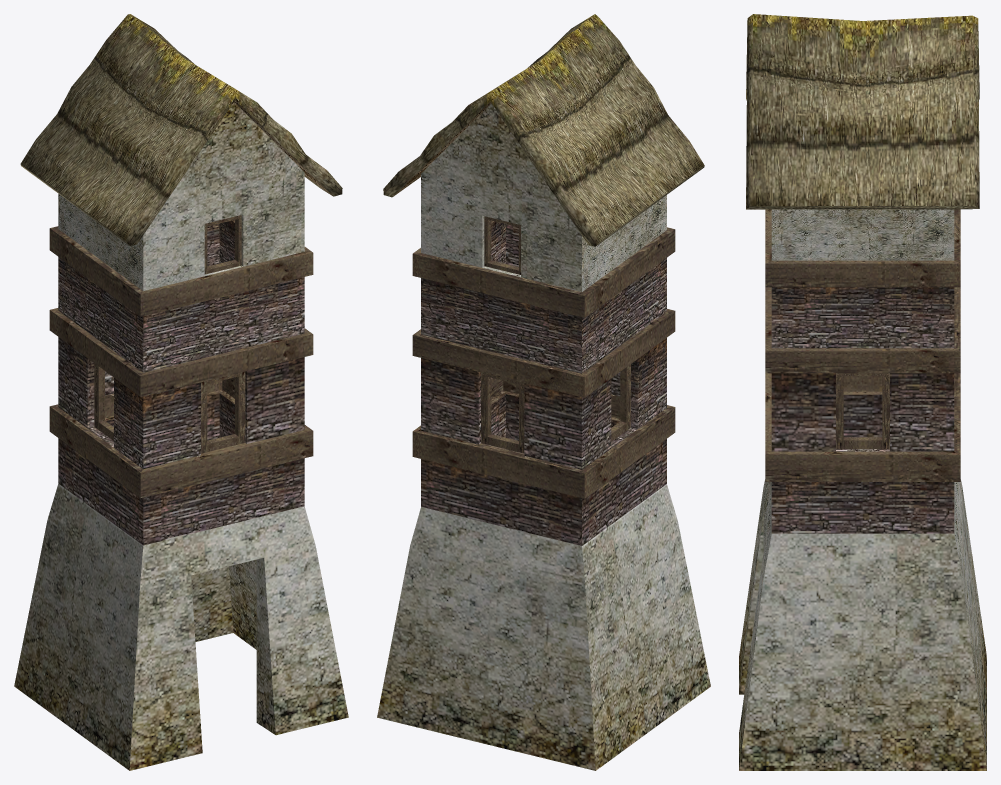
The model's file is celt_outpost2.dae.
3 renders of one model, left to right at view 1: azimuth 30°, elevation 25°; view 2: azimuth 150°, elevation 25°; view 3: azimuth 270°, elevation 25°, orthographic. The views are drawn at different scales.
Visible parts, largest first — view 1: default03; view 2: default03; view 3: default03.
Boxes of the visible parts, bbox=[...] form: default03: bbox=[14, 14, 348, 770]; default03: bbox=[377, 14, 710, 770]; default03: bbox=[739, 14, 986, 770].
Bounding box in the file's own units: 6.74 × 19.21 × 6.16.
